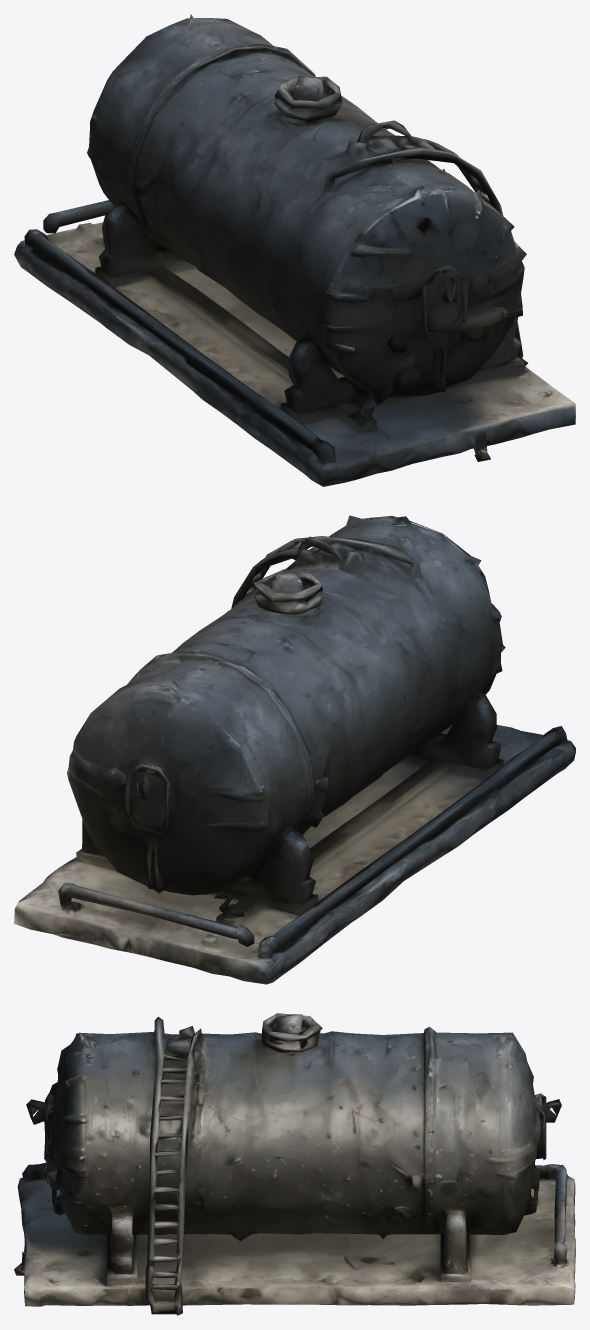
File: xd_fueltank.glb
The picture shows the model from 3 angles, top to bottom: view 1: azimuth 30°, elevation 25°; view 2: azimuth 150°, elevation 25°; view 3: azimuth 270°, elevation 25°; orthographic projection. The views are drawn at different scales.
Parts seen in each view (by area): view 1: tripo_node_ef22e4b8-820f-4e40-83f9-66bc9c315c6c; view 2: tripo_node_ef22e4b8-820f-4e40-83f9-66bc9c315c6c; view 3: tripo_node_ef22e4b8-820f-4e40-83f9-66bc9c315c6c.
Part boxes in pixels (bbox=[...]): tripo_node_ef22e4b8-820f-4e40-83f9-66bc9c315c6c: bbox=[14, 14, 575, 486]; tripo_node_ef22e4b8-820f-4e40-83f9-66bc9c315c6c: bbox=[14, 515, 575, 984]; tripo_node_ef22e4b8-820f-4e40-83f9-66bc9c315c6c: bbox=[14, 1013, 575, 1315].
Size of the model in its own units: 0.5204 by 0.4848 by 1.
Materials: 1 (1 with a texture image).
